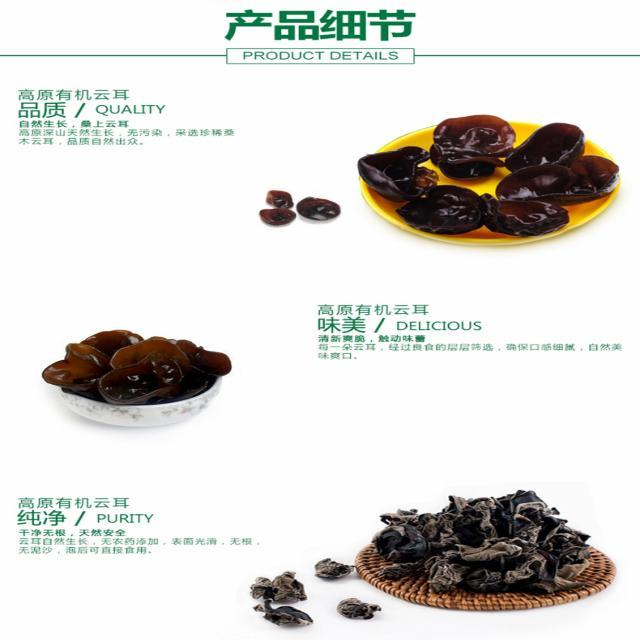Auricularia auricula: (359, 114, 619, 241), (380, 490, 585, 598), (48, 324, 228, 412), (252, 555, 379, 628), (258, 187, 342, 236)
